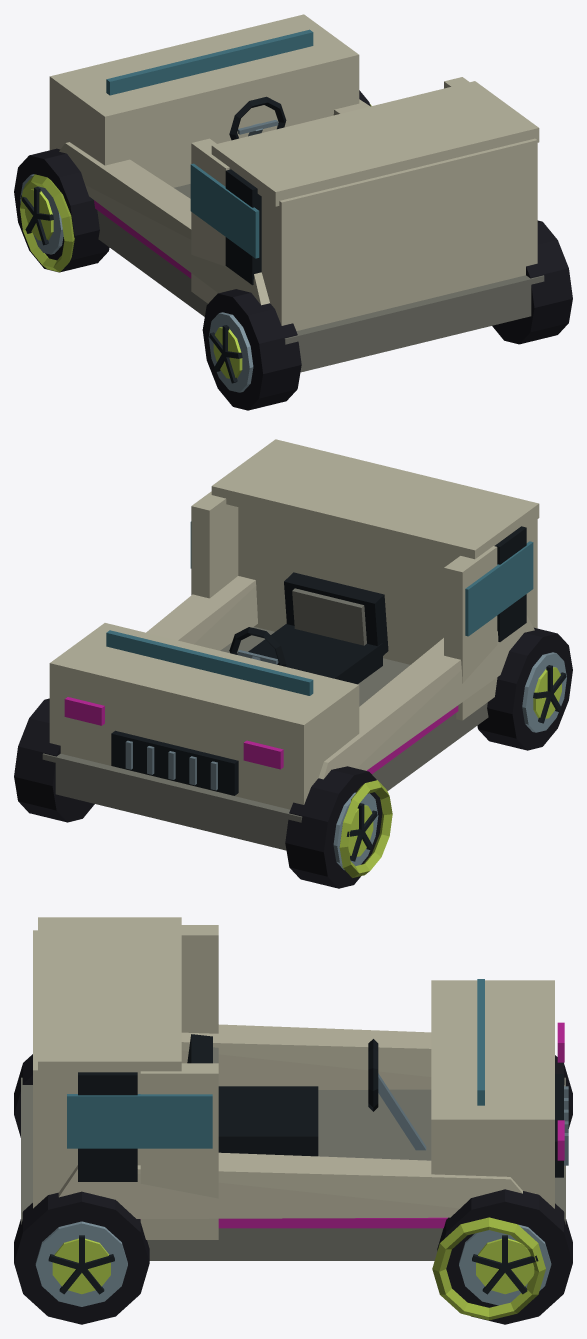
The model's file is kart.glb.
The picture shows the model from 3 angles, top to bottom: view 1: azimuth 30°, elevation 25°; view 2: azimuth 150°, elevation 25°; view 3: azimuth 270°, elevation 25°; orthographic projection. The views are drawn at different scales.
Parts seen in each view (by area): view 1: identity-van-van-utility-body, wheel-rear-left, wheel-front-left, wheel-rear-right, identity-van-motif-neon, identity-van-motif-speakers, identity-van-driver-cockpit; view 2: identity-van-van-utility-body, identity-van-driver-cockpit, wheel-front-left, wheel-rear-left, wheel-front-right, identity-van-motif-neon, identity-van-motif-speakers; view 3: identity-van-van-utility-body, wheel-rear-right, wheel-front-right, identity-van-driver-cockpit, identity-van-motif-neon, identity-van-motif-speakers, wheel-rear-left.
Part boxes in pixels (bbox=[...]): identity-van-van-utility-body: bbox=[49, 14, 544, 372]; wheel-rear-left: bbox=[202, 289, 301, 410]; wheel-front-left: bbox=[14, 148, 109, 272]; wheel-rear-right: bbox=[492, 220, 572, 344]; identity-van-motif-neon: bbox=[20, 104, 371, 278]; identity-van-motif-speakers: bbox=[225, 169, 261, 285]; identity-van-driver-cockpit: bbox=[229, 96, 286, 140]; identity-van-van-utility-body: bbox=[42, 439, 539, 850]; identity-van-driver-cockpit: bbox=[229, 572, 388, 684]; wheel-front-left: bbox=[285, 766, 382, 888]; wheel-rear-left: bbox=[477, 627, 572, 750]; wheel-front-right: bbox=[14, 698, 94, 822]; identity-van-motif-neon: bbox=[339, 705, 458, 877]; identity-van-motif-speakers: bbox=[495, 526, 526, 641]; identity-van-van-utility-body: bbox=[21, 917, 568, 1260]; wheel-rear-right: bbox=[14, 1191, 149, 1324]; wheel-front-right: bbox=[437, 1189, 572, 1324]; identity-van-driver-cockpit: bbox=[187, 1034, 426, 1156]; identity-van-motif-neon: bbox=[140, 1217, 545, 1320]; identity-van-motif-speakers: bbox=[78, 1072, 137, 1181]; wheel-rear-left: bbox=[14, 1054, 32, 1137].
Size of the model in its own units: 2.13 by 1.38 by 2.8.
